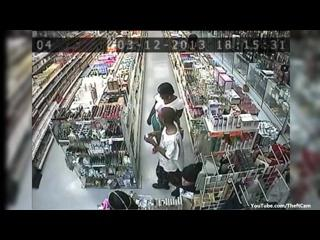Normal: (144, 106, 184, 196), (150, 82, 184, 132)
